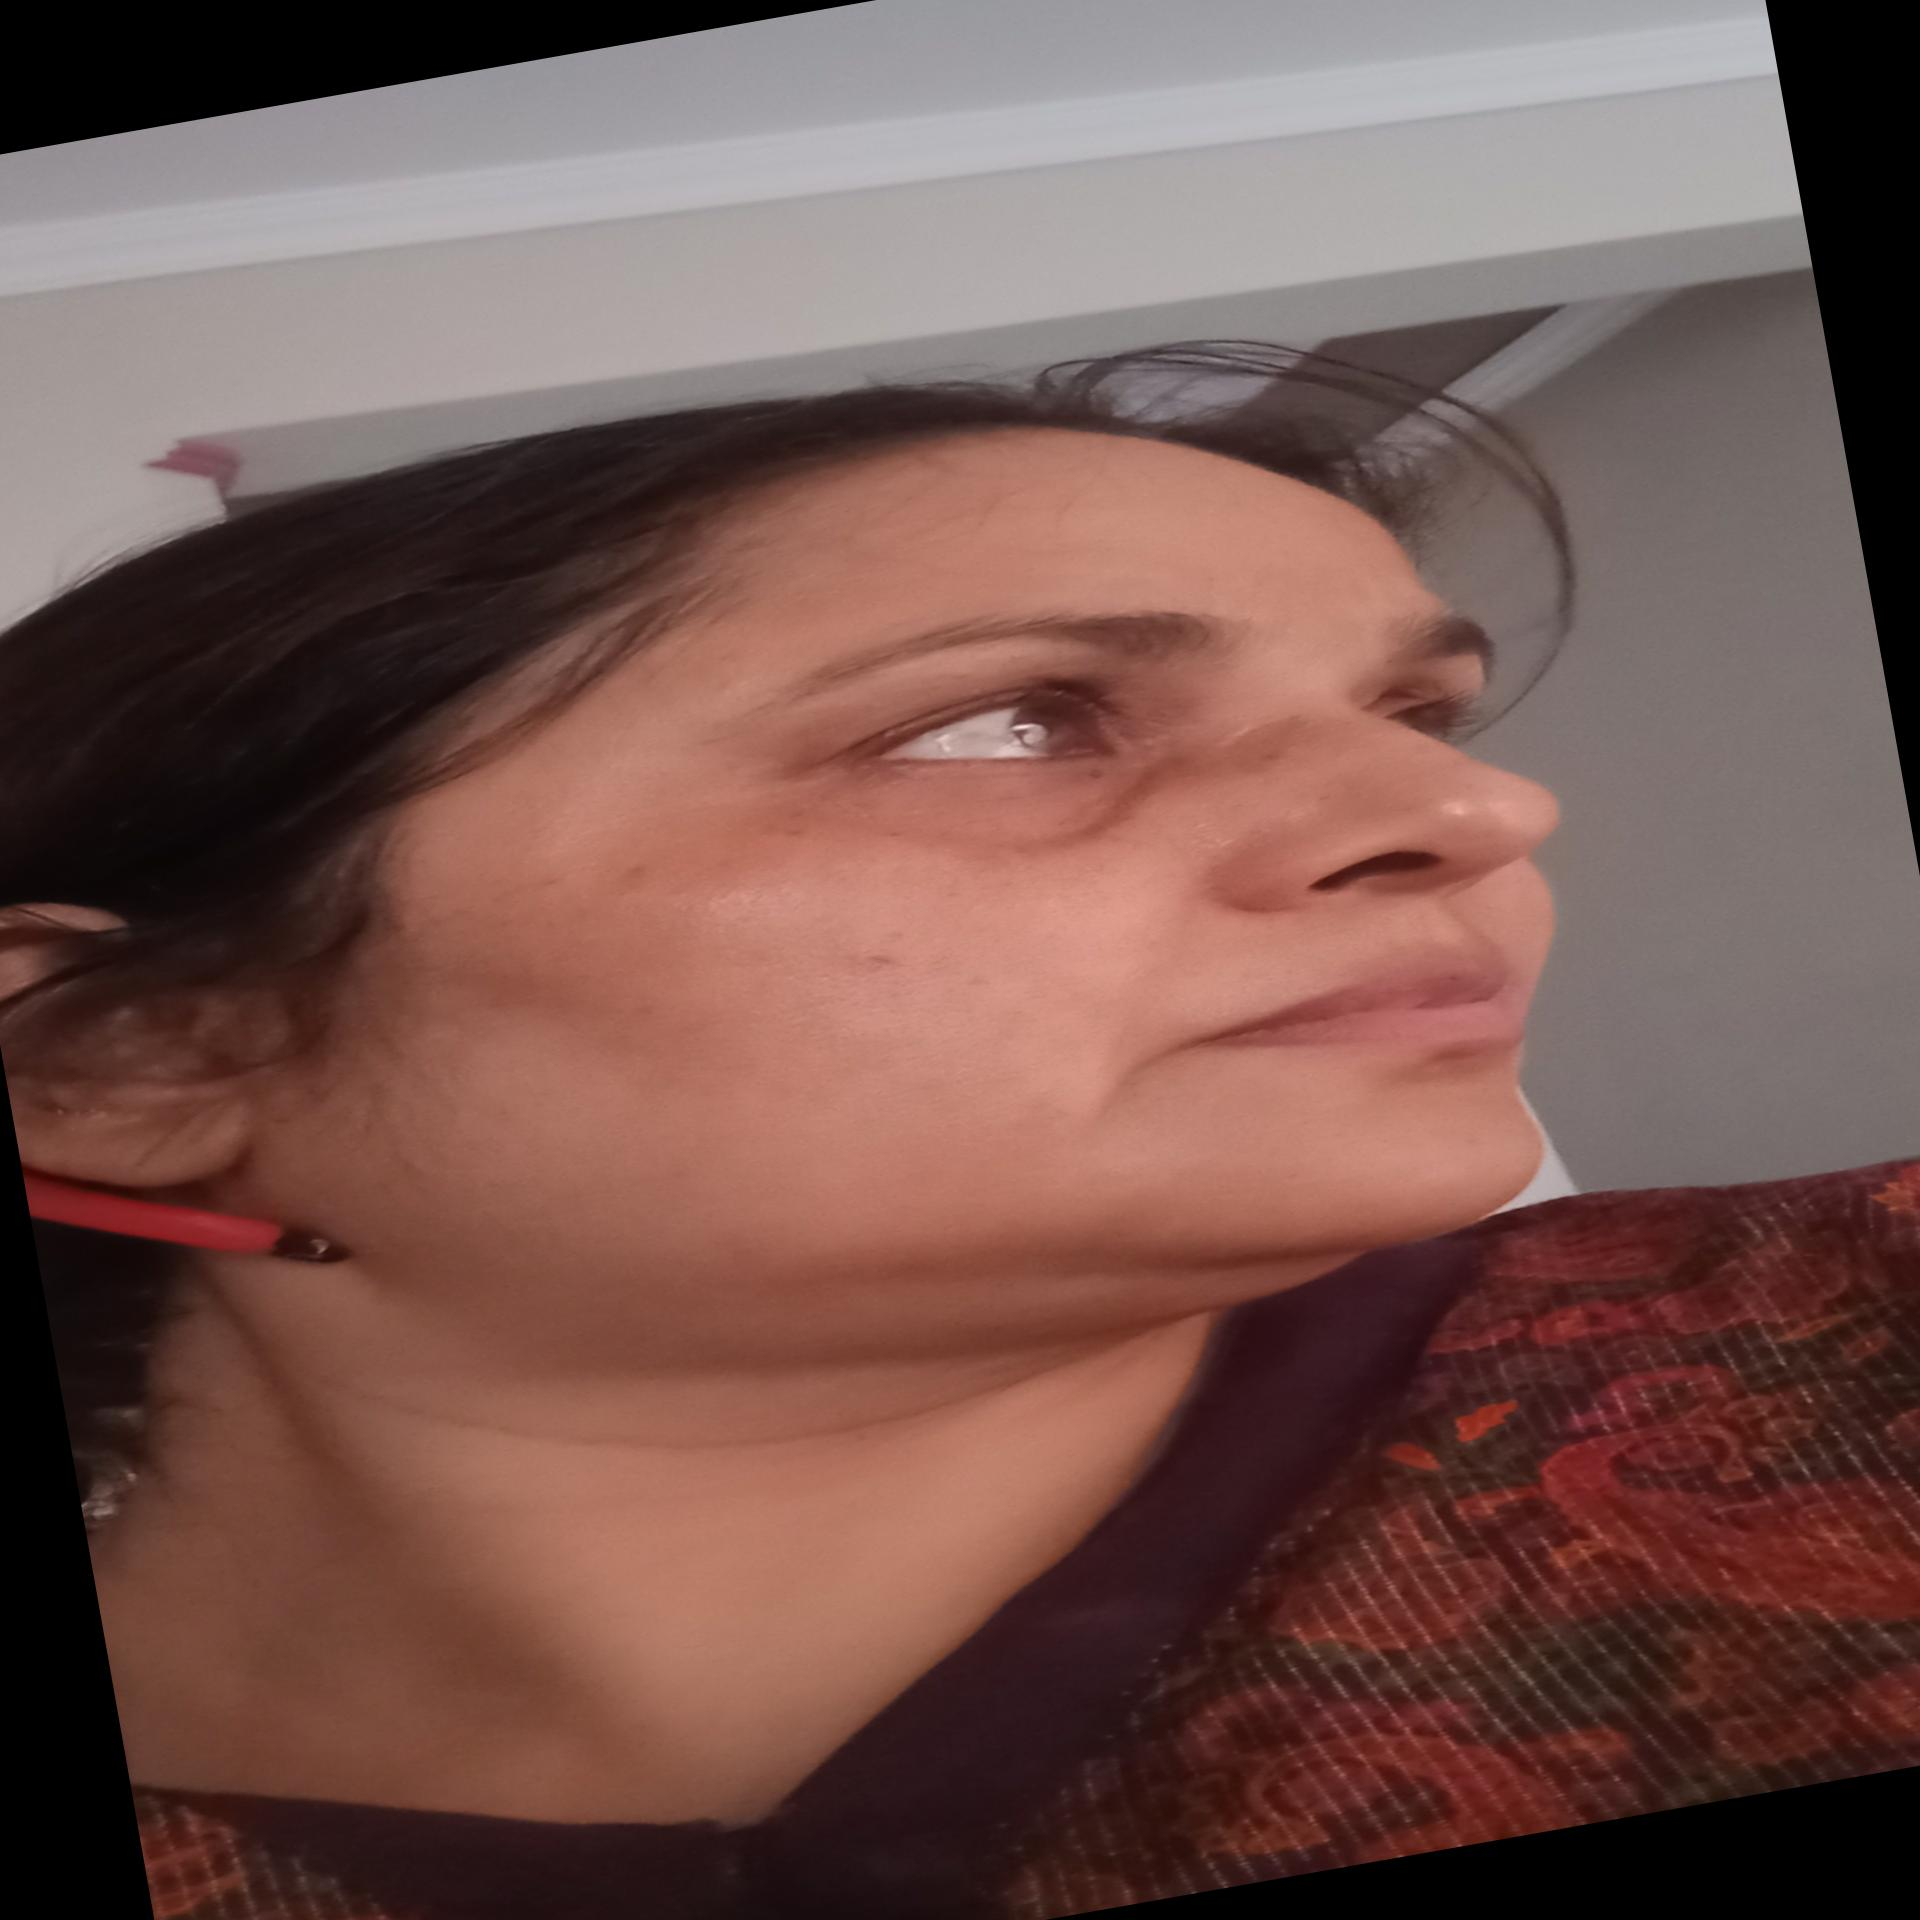Acne: (853, 937, 909, 979)
Wrinkles: (1088, 925, 1189, 1053), (1073, 1055, 1176, 1134)
